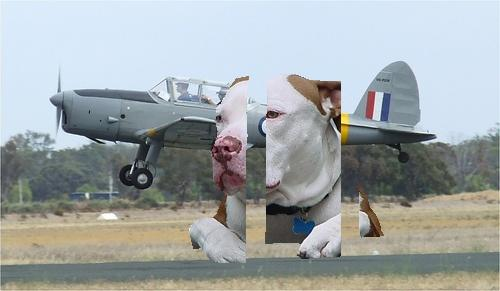tampered: (190, 75, 384, 263)
